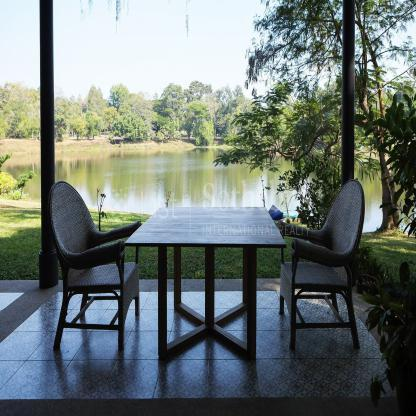chair: (42, 168, 151, 374), (279, 172, 368, 359)
table: (125, 206, 288, 362)
